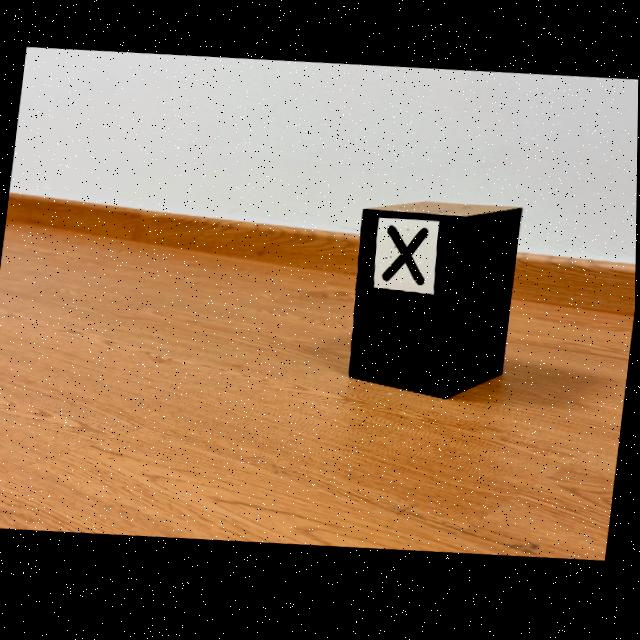X: (383, 230, 429, 290)
